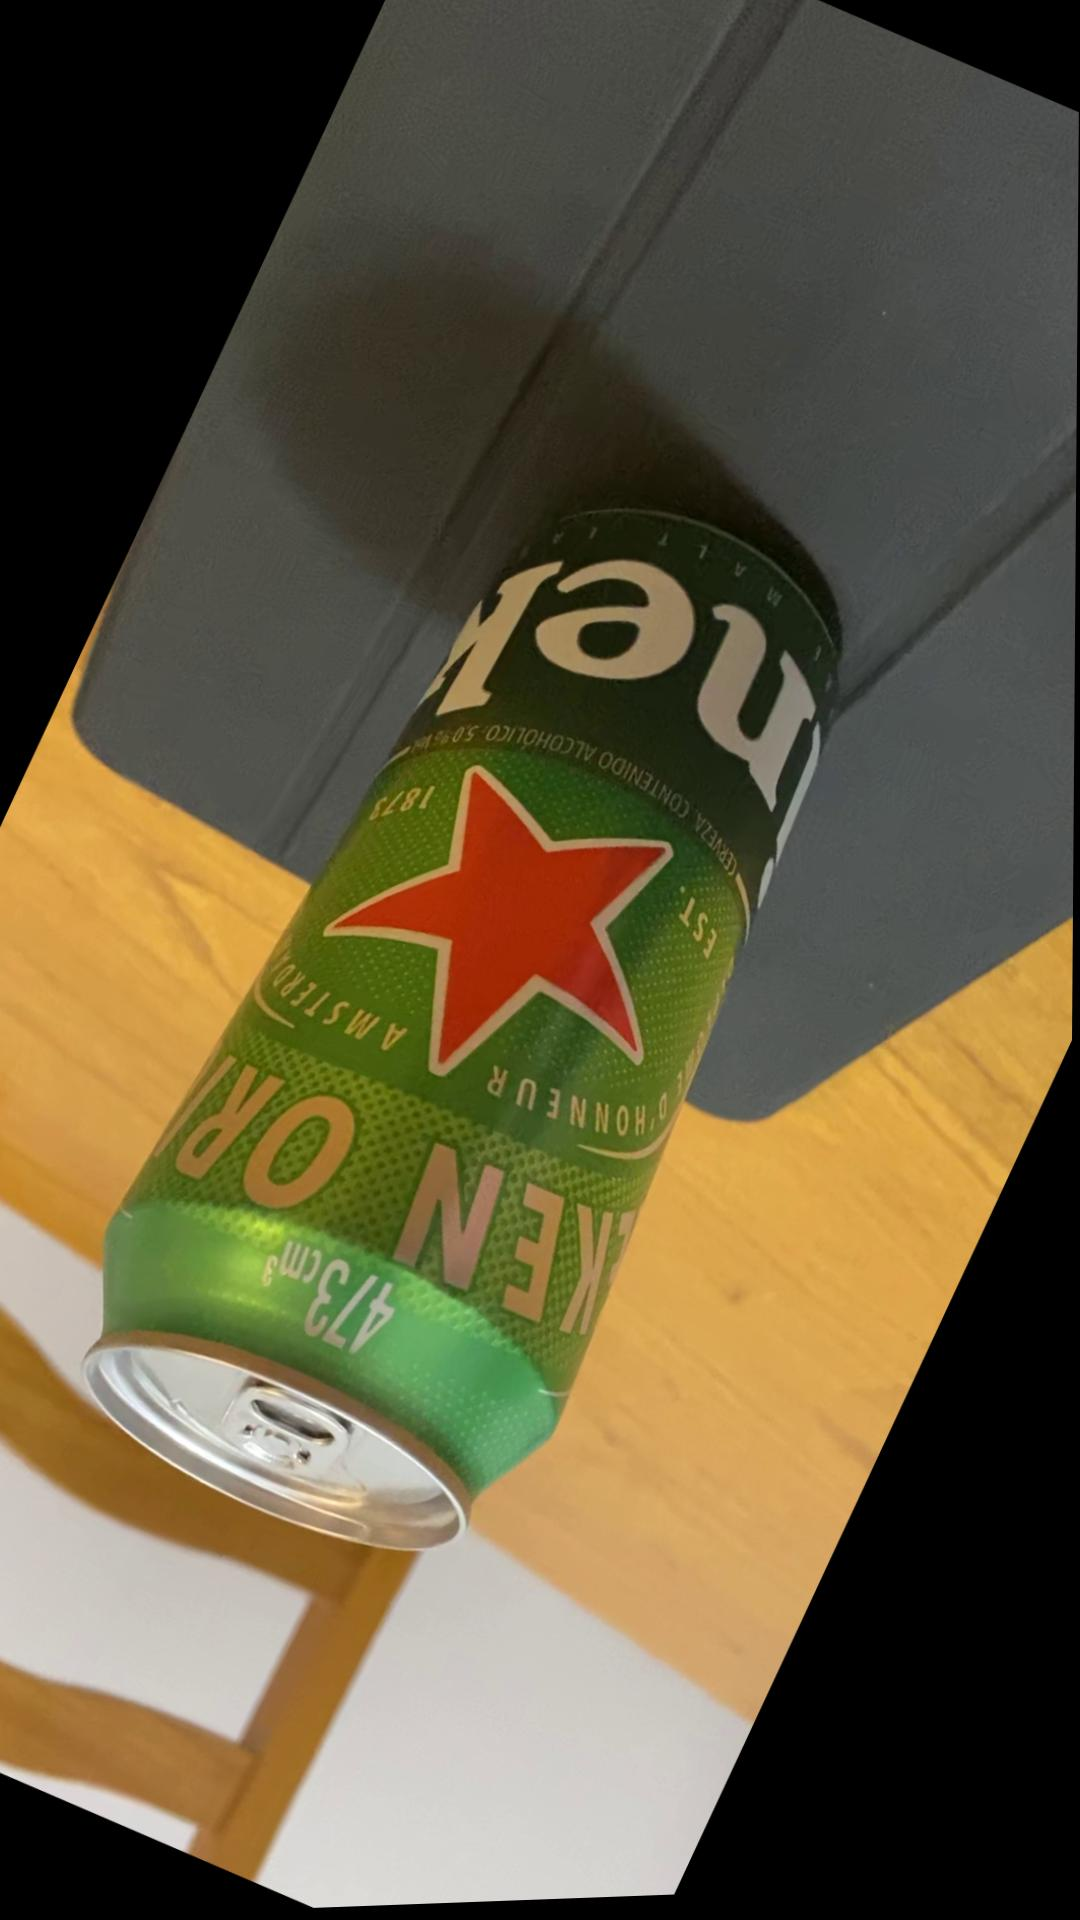metal: (83, 498, 836, 1551)
